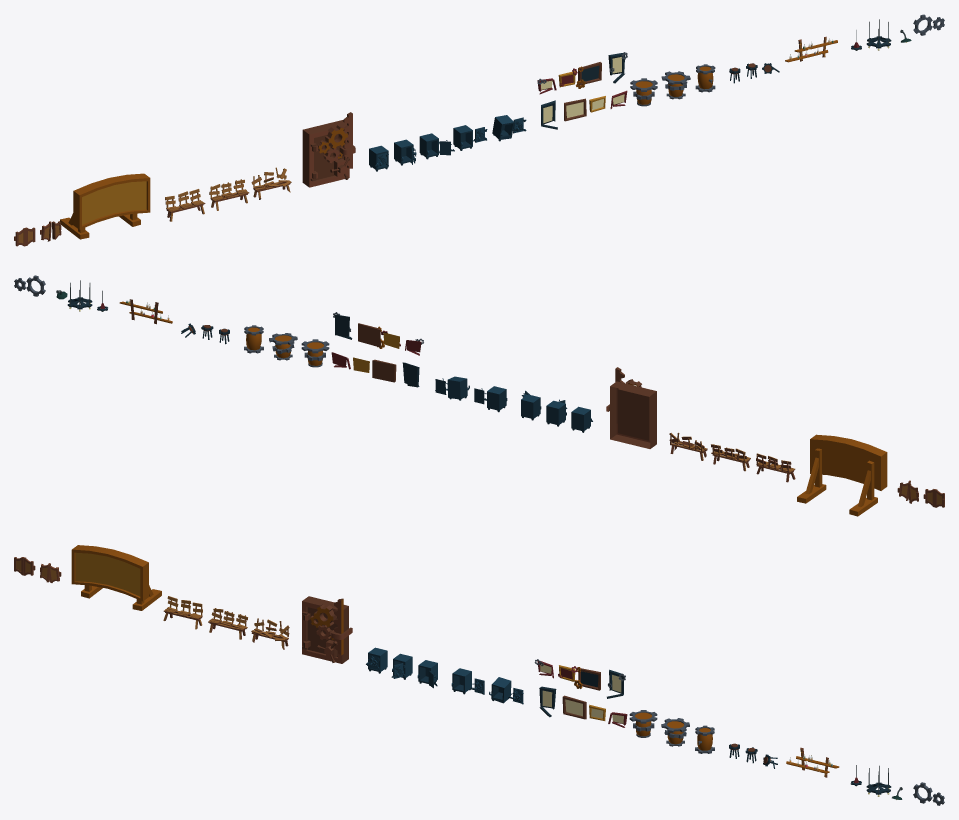
The model's file is semana_4.fbx.
3 views of the same model, one above another, from view 1: azimuth 30°, elevation 25°; view 2: azimuth 150°, elevation 25°; view 3: azimuth 330°, elevation 25° (orthographic).
Parts seen in each view (by area): view 1: letreiro_telhado, cofre_banco, cadeira_normal, cofre_2, cadeira_torta, barril_mesa_quebrada, barril_mesa, cadeira_quebrada; view 2: letreiro_telhado, cofre_banco, barril_mesa, barril_mesa_quebrada, cadeira_normal; view 3: letreiro_telhado, cofre_banco, cadeira_torta, cadeira_normal, barril_mesa_quebrada, cadeira_quebrada, barril_mesa.
Part boxes in pixels (left/top/right/bottom): letreiro_telhado: left=60, top=173, right=150, bottom=239; cofre_banco: left=302, top=112, right=355, bottom=187; cadeira_normal: left=165, top=189, right=205, bottom=221; cofre_2: left=419, top=133, right=454, bottom=159; cadeira_torta: left=209, top=179, right=249, bottom=210; barril_mesa_quebrada: left=661, top=71, right=690, bottom=99; barril_mesa: left=630, top=78, right=657, bottom=106; cadeira_quebrada: left=251, top=167, right=291, bottom=199; letreiro_telhado: left=797, top=434, right=887, bottom=516; cofre_banco: left=606, top=367, right=656, bottom=448; barril_mesa: left=301, top=339, right=329, bottom=367; barril_mesa_quebrada: left=269, top=333, right=297, bottom=360; cadeira_normal: left=756, top=453, right=795, bottom=482; letreiro_telhado: left=71, top=545, right=161, bottom=610; cofre_banco: left=302, top=596, right=352, bottom=663; cadeira_torta: left=208, top=608, right=247, bottom=639; cadeira_normal: left=163, top=596, right=202, bottom=629; barril_mesa_quebrada: left=661, top=718, right=689, bottom=746; cadeira_quebrada: left=251, top=618, right=289, bottom=649; barril_mesa: left=629, top=710, right=657, bottom=737.
Size of the model in its own units: 5641 by 391 by 340.
